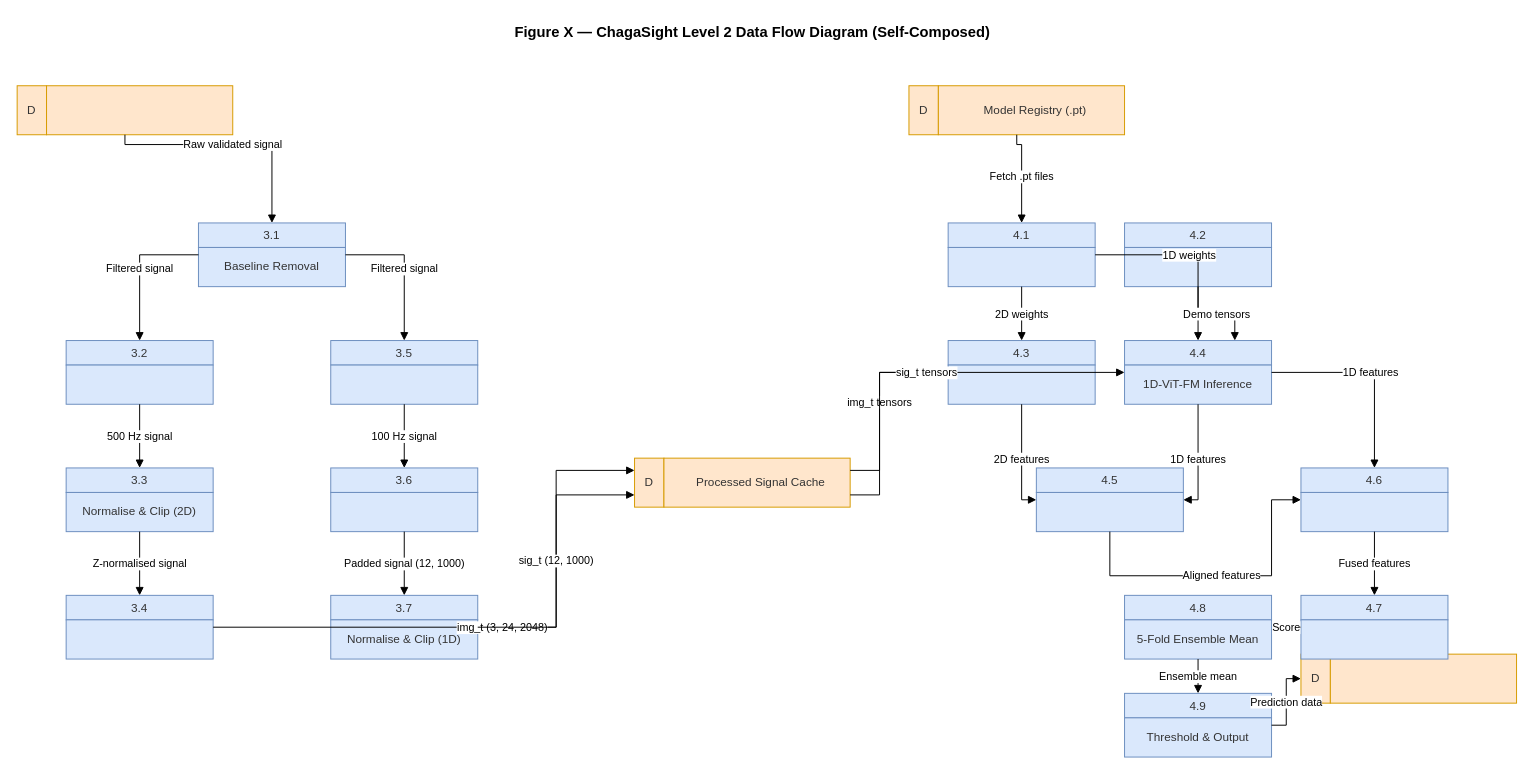
This 1534x774 diagram has some shape labels left out. The centre of each missing label's shape, as x and y in pixels:
2D-ViT Inference: point (1021, 384)
Classification MLP: point (1374, 639)
Encode Demographics: point (1198, 266)
Feature Fusion: point (1374, 511)
Load Model Weights: point (1021, 266)
Pad/Trim (1D): point (404, 511)
Prediction Log: point (1423, 678)
REPA Alignment: point (1109, 511)
Resample to 100 Hz (1D): point (404, 384)
Resample to 500 Hz (2D): point (139, 384)
Temp Upload Store: point (139, 110)
WCT 2D Image Build: point (139, 639)
